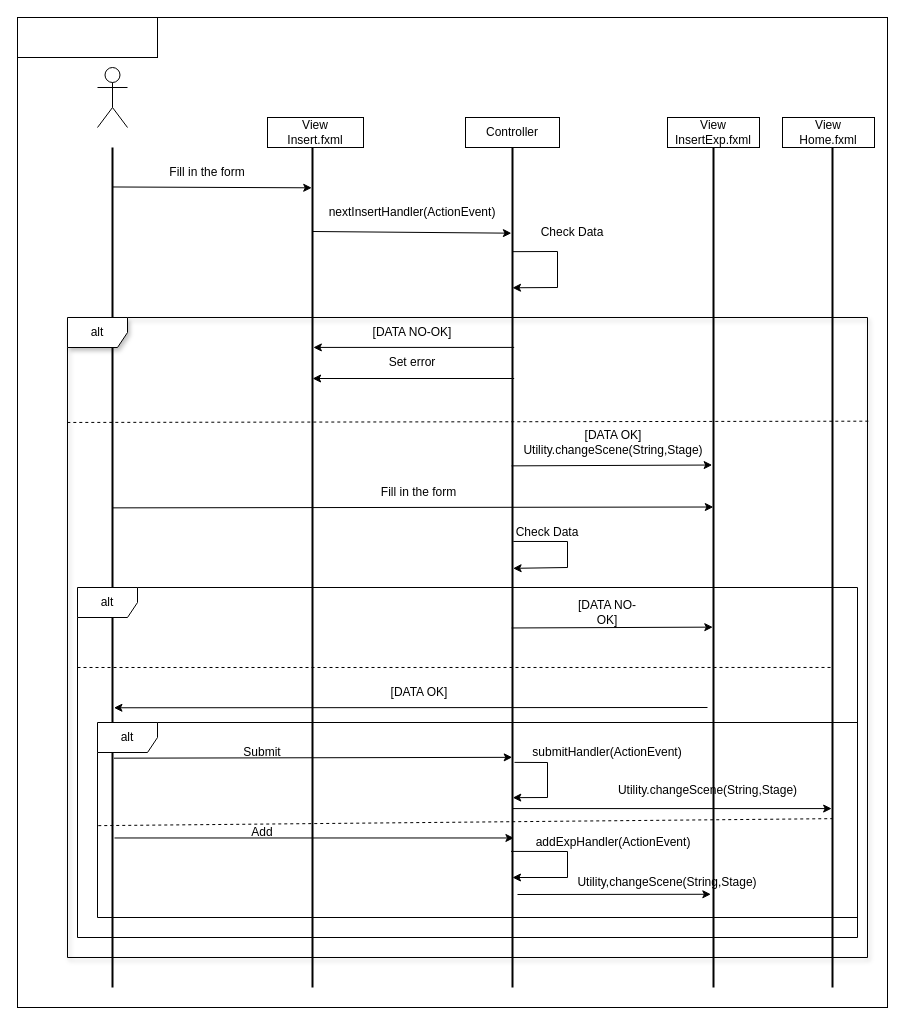
This 905x1025 diagram has some shape labels left out. Here are the shapes that lost their labels. From the top down, the centre of each, then its label:
At point (87, 37): "INSERT".
At point (112, 97): "User".
